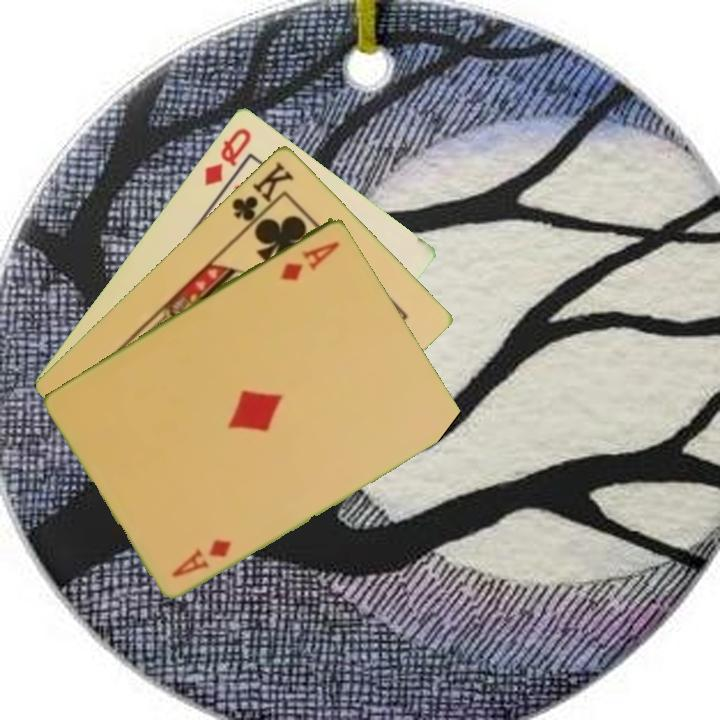Ad: (277, 237, 343, 283), (168, 535, 235, 580)
Kc: (228, 156, 297, 233)
Qd: (200, 123, 254, 188)
